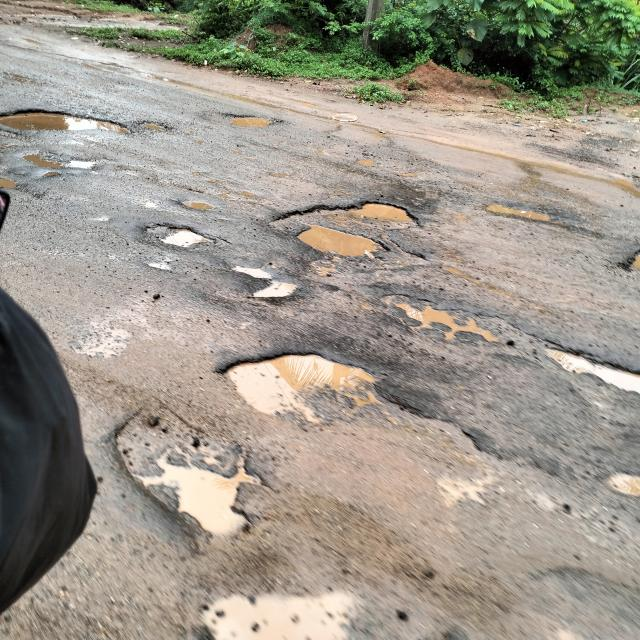pothole: (102, 409, 364, 640), (200, 341, 407, 422), (0, 95, 169, 189), (269, 191, 442, 267), (368, 285, 520, 359), (139, 178, 264, 264), (429, 442, 538, 527), (541, 331, 640, 407), (471, 184, 584, 227), (217, 264, 322, 309), (72, 310, 146, 369), (218, 104, 290, 140), (322, 140, 392, 174), (609, 445, 640, 508), (615, 232, 640, 297)
